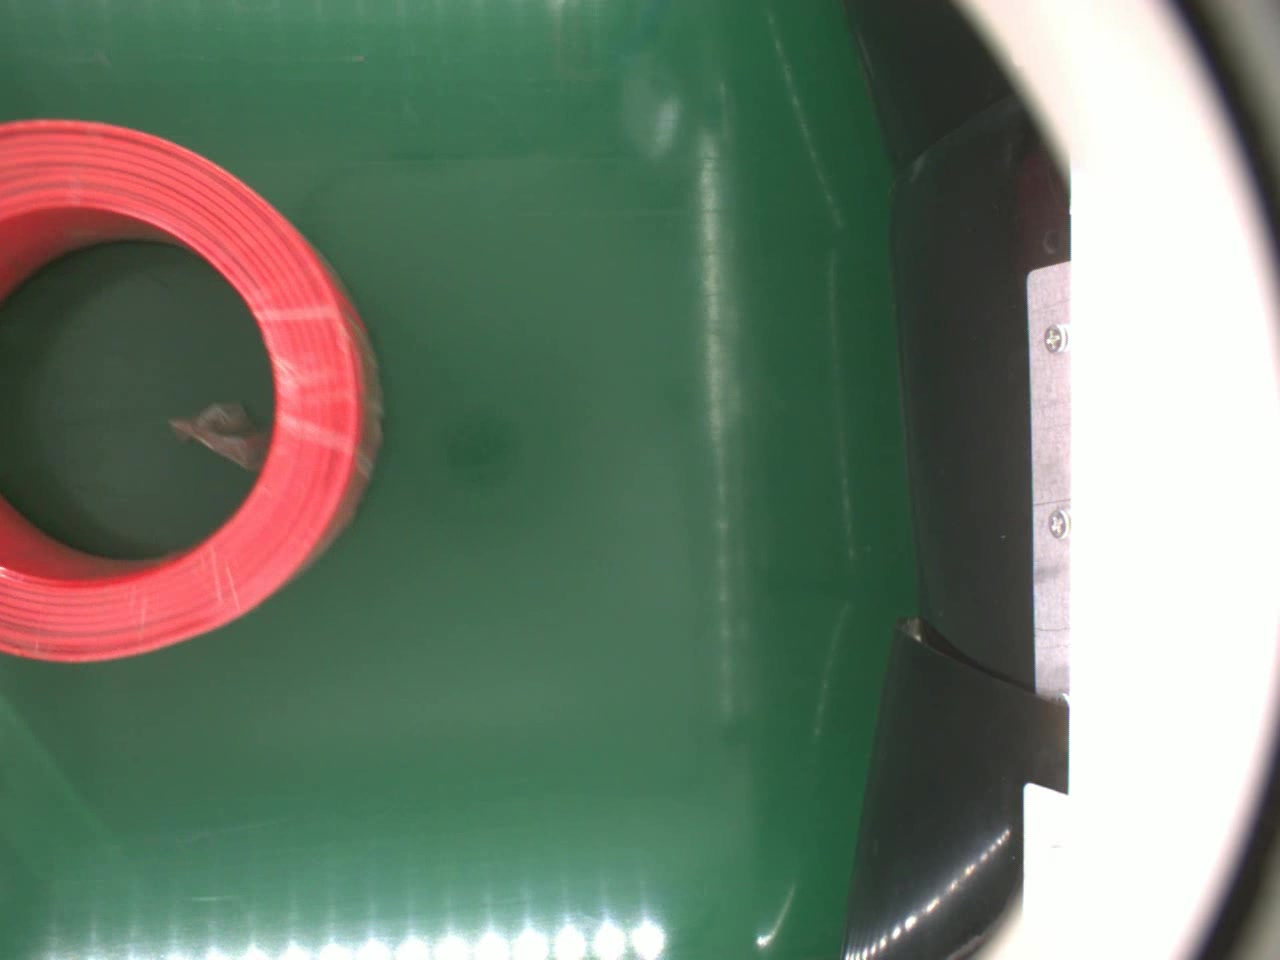red: (0, 118, 388, 661)
